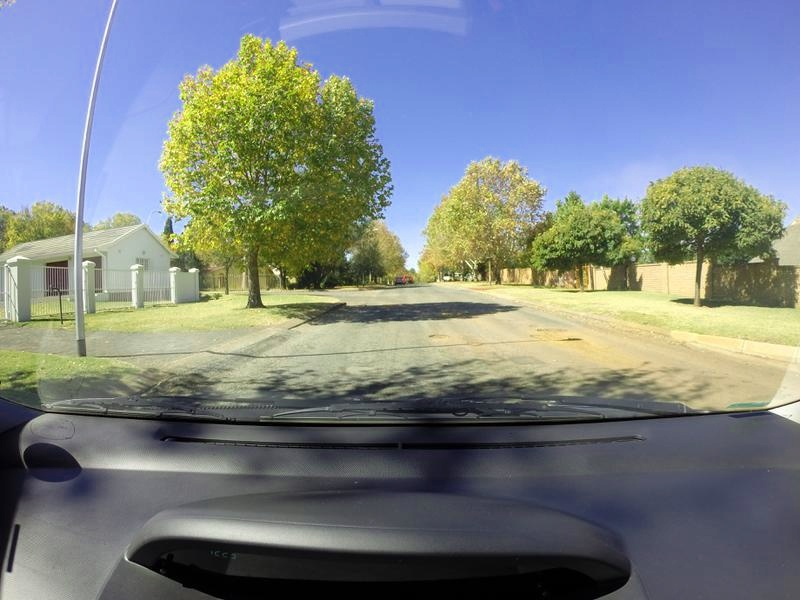pothole: (540, 320, 596, 354), (423, 330, 461, 346)
